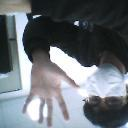hand: (21, 61, 80, 128)
